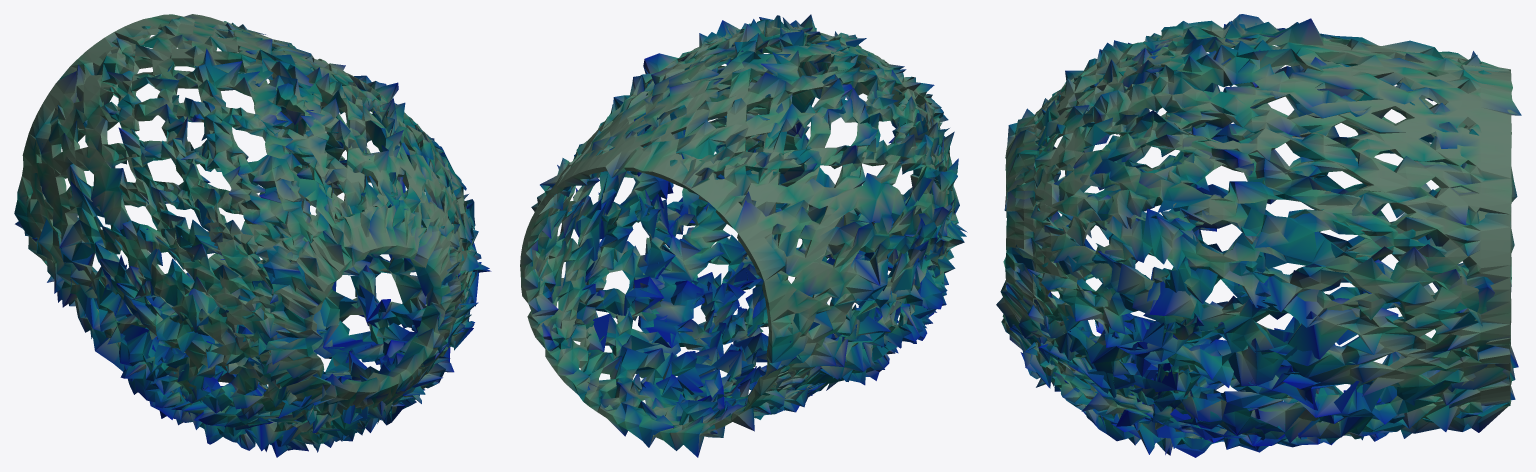
The model's file is lamp_shade_14_final100.obj.
3 views of the same model, side by side, from view 1: azimuth 30°, elevation 25°; view 2: azimuth 150°, elevation 25°; view 3: azimuth 270°, elevation 25° (orthographic). The views are drawn at different scales.
Size of the model in its own units: 1.29 by 1.29 by 1.55.
